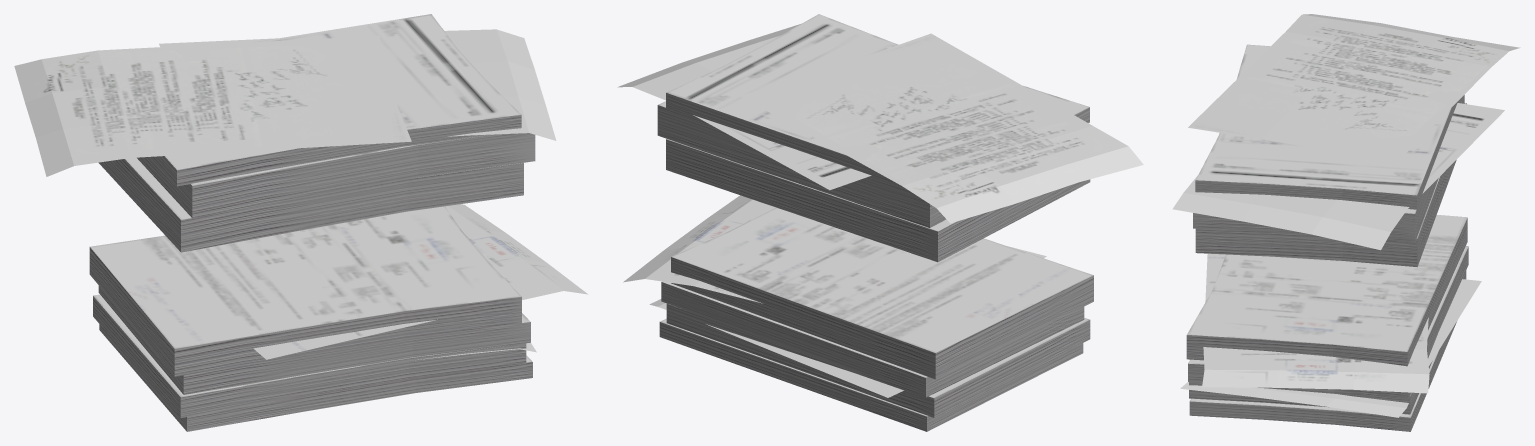
Rendered from office_paperstack_004_cube.fbx.
3 views of the same model, side by side, from view 1: azimuth 30°, elevation 25°; view 2: azimuth 150°, elevation 25°; view 3: azimuth 270°, elevation 25° (orthographic). The views are drawn at different scales.
Parts seen in each view (by area): view 1: office_paperstack_004_cube; view 2: office_paperstack_004_cube; view 3: office_paperstack_004_cube.
Boxes of the visible parts, x1,y1,x2,y2 form: office_paperstack_004_cube: [14, 14, 588, 431]; office_paperstack_004_cube: [617, 14, 1143, 431]; office_paperstack_004_cube: [1172, 14, 1520, 431].
Bounding box in the file's own units: 2.67 × 1.32 × 1.77.
